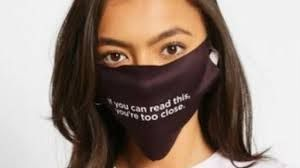with-mask: (70, 4, 236, 162)
